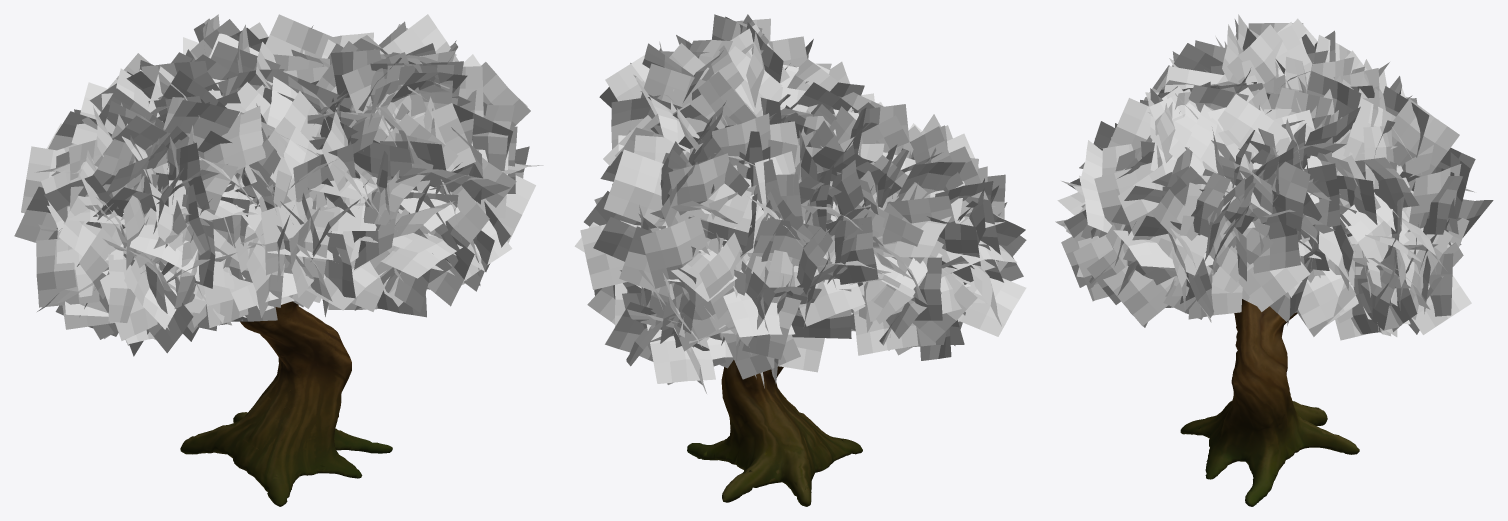
Rendered from Tree.fbx.
3 renders of one model, left to right at view 1: azimuth 30°, elevation 25°; view 2: azimuth 150°, elevation 25°; view 3: azimuth 270°, elevation 25°, orthographic. The views are drawn at different scales.
Visible parts, largest first — view 1: Blue Tree; view 2: Blue Tree; view 3: Blue Tree.
Part boxes in pixels (box(x1,y1,x2,y2)): Blue Tree: box(14, 14, 543, 506); Blue Tree: box(574, 14, 1026, 506); Blue Tree: box(1055, 14, 1493, 506).
Size of the model in its own units: 1462 by 1318 by 1298.
